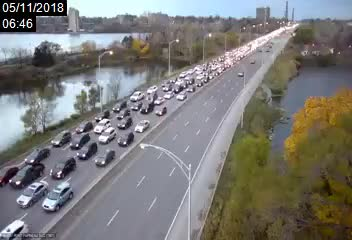congestion: (2, 120, 138, 211), (84, 84, 171, 131), (148, 63, 212, 97), (192, 52, 238, 76)
personal_car: (17, 180, 46, 210), (43, 181, 72, 210), (12, 162, 44, 187), (1, 217, 29, 240), (50, 158, 76, 179), (1, 157, 18, 189), (25, 146, 50, 165), (94, 147, 115, 166), (78, 141, 97, 158), (70, 131, 89, 148), (53, 130, 72, 146), (119, 131, 136, 147), (100, 128, 117, 143), (75, 121, 92, 133), (94, 119, 110, 131), (136, 119, 150, 132), (95, 109, 110, 121), (129, 90, 145, 101), (112, 100, 127, 111), (119, 116, 131, 128), (142, 100, 152, 113), (155, 106, 167, 116), (117, 108, 129, 118), (154, 95, 164, 106), (131, 100, 141, 111), (176, 92, 188, 101), (163, 91, 174, 100), (147, 84, 158, 93), (186, 75, 195, 85), (172, 83, 181, 93), (194, 79, 203, 87), (161, 78, 170, 86), (162, 82, 169, 92), (168, 75, 177, 82), (186, 86, 196, 92), (179, 70, 186, 78), (201, 75, 209, 82), (186, 67, 193, 74), (180, 80, 186, 88), (196, 73, 203, 79)
